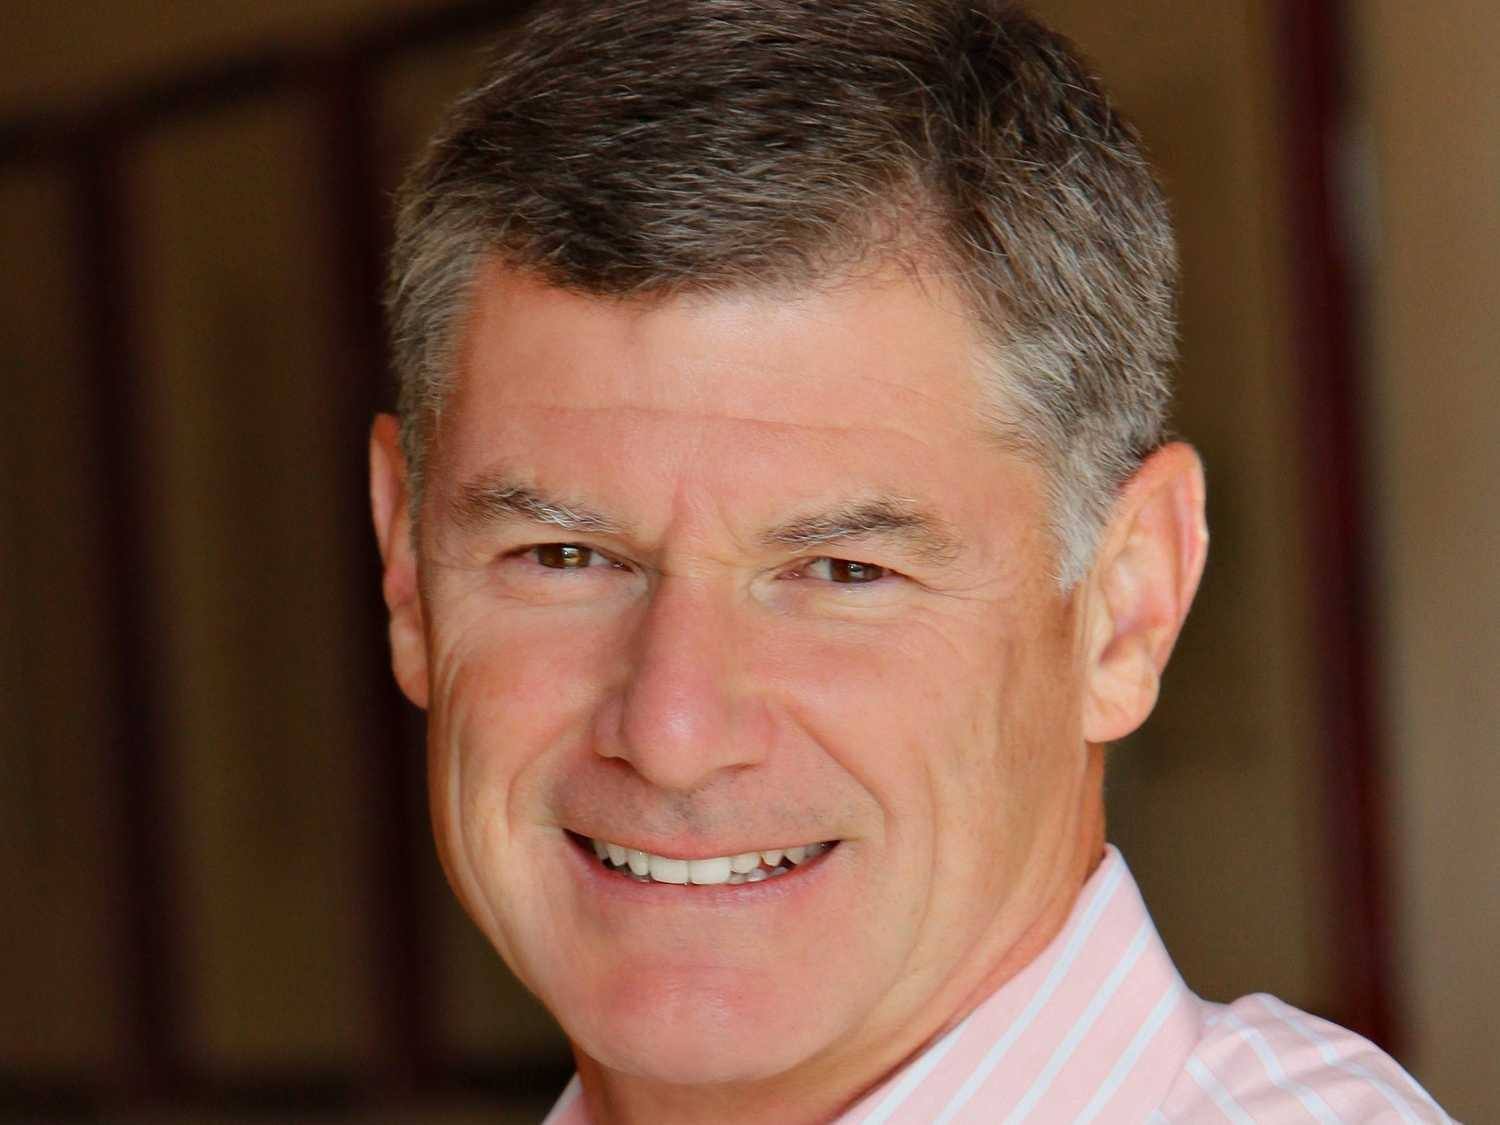human: (234, 5, 1500, 1125)
